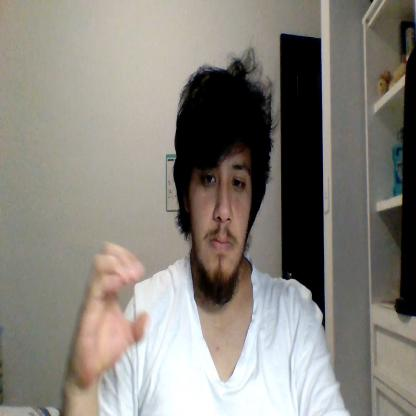C: (69, 242, 148, 384)
